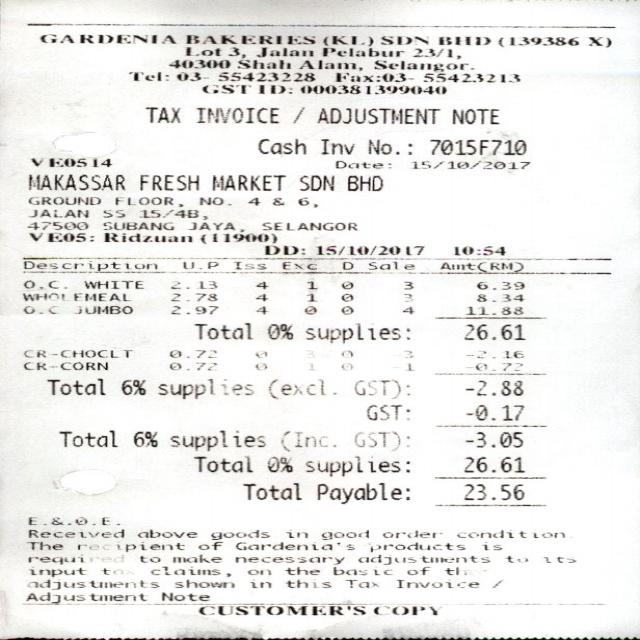text: (168, 429, 264, 452), (304, 455, 408, 476), (315, 482, 408, 504), (200, 604, 364, 616), (316, 107, 438, 123), (303, 323, 399, 343), (156, 378, 250, 398), (26, 173, 124, 190), (428, 138, 525, 155), (298, 84, 445, 94), (24, 591, 145, 603), (183, 33, 314, 44), (195, 106, 278, 123), (38, 33, 174, 43), (371, 59, 472, 72), (358, 554, 488, 564), (29, 579, 157, 589), (266, 379, 333, 398), (19, 261, 158, 270), (211, 173, 284, 190), (278, 430, 334, 451), (240, 481, 299, 500), (462, 322, 524, 340), (22, 348, 131, 358), (314, 245, 422, 255), (455, 528, 563, 538), (76, 542, 183, 552), (45, 376, 104, 394), (463, 482, 522, 500), (234, 541, 352, 550), (352, 379, 407, 398), (191, 455, 252, 472), (369, 541, 463, 552), (138, 173, 198, 190), (463, 404, 522, 421), (215, 72, 314, 82), (25, 555, 124, 565), (233, 556, 343, 565), (57, 430, 115, 447), (421, 72, 518, 82), (410, 160, 529, 168), (374, 603, 442, 617), (463, 456, 522, 472), (192, 322, 250, 338), (464, 379, 522, 395), (464, 431, 522, 447), (102, 232, 190, 242), (440, 260, 520, 271), (26, 528, 123, 537), (198, 232, 276, 243), (320, 46, 403, 56), (352, 431, 407, 446), (26, 516, 117, 525), (396, 578, 477, 588), (148, 566, 228, 576), (451, 107, 498, 124), (334, 72, 412, 82), (256, 138, 304, 154), (21, 361, 106, 370), (261, 222, 355, 230), (138, 208, 206, 219), (503, 36, 574, 46), (364, 404, 408, 420), (113, 196, 181, 206), (366, 139, 410, 154), (27, 232, 92, 242), (100, 221, 172, 230), (254, 46, 312, 57), (462, 361, 520, 372), (298, 60, 361, 70), (320, 34, 372, 46), (167, 58, 229, 68), (345, 174, 381, 191), (187, 221, 242, 232), (410, 47, 460, 59), (26, 220, 86, 230), (208, 529, 268, 539), (136, 528, 195, 538), (26, 196, 99, 204), (143, 106, 179, 122), (452, 244, 504, 255), (298, 174, 333, 190), (75, 304, 131, 314), (462, 350, 522, 359), (330, 566, 390, 575), (236, 58, 289, 68), (464, 306, 522, 315), (157, 592, 208, 602), (29, 157, 85, 166), (72, 292, 128, 301), (438, 36, 488, 46), (319, 139, 352, 154), (81, 280, 141, 288), (319, 529, 367, 539), (27, 209, 86, 217), (26, 568, 84, 576), (174, 579, 232, 587), (263, 242, 296, 256), (200, 85, 250, 94), (367, 260, 412, 270), (265, 322, 291, 339), (118, 378, 144, 395), (265, 455, 291, 472), (334, 160, 388, 168), (474, 281, 522, 290), (172, 553, 220, 562), (131, 430, 156, 447), (168, 292, 215, 301), (169, 305, 216, 314), (382, 530, 434, 538), (380, 35, 426, 44), (444, 566, 485, 576), (278, 260, 314, 271), (282, 579, 330, 587), (20, 292, 62, 301), (168, 280, 215, 288), (183, 46, 219, 56), (25, 540, 61, 550), (232, 260, 266, 270), (22, 280, 64, 288), (474, 294, 522, 301), (167, 362, 215, 369), (101, 567, 134, 577), (126, 72, 167, 80), (168, 350, 214, 357), (255, 85, 290, 94), (182, 261, 216, 270), (197, 196, 230, 205), (22, 305, 54, 314), (284, 566, 318, 574), (586, 36, 610, 47), (343, 579, 376, 587), (196, 540, 222, 550), (174, 72, 206, 80), (227, 46, 244, 58), (290, 106, 302, 123), (542, 556, 574, 562), (404, 566, 428, 574), (337, 346, 351, 359), (102, 209, 124, 217), (397, 292, 413, 303), (337, 278, 351, 290), (503, 555, 526, 562), (303, 291, 316, 303), (338, 304, 352, 315), (284, 531, 306, 538), (137, 555, 159, 562), (93, 158, 110, 167), (295, 196, 308, 207), (338, 260, 352, 270), (400, 349, 414, 359), (303, 362, 317, 372), (246, 568, 269, 574), (396, 363, 413, 371), (247, 581, 269, 587), (398, 280, 411, 290), (245, 196, 259, 205), (301, 305, 315, 314), (482, 543, 500, 550), (303, 280, 315, 290), (339, 292, 351, 302), (270, 197, 283, 205), (253, 281, 266, 289), (253, 293, 266, 301), (254, 305, 265, 314), (302, 350, 313, 359), (339, 362, 350, 370), (400, 306, 412, 313), (490, 579, 500, 587), (254, 352, 265, 358), (253, 363, 265, 368)
